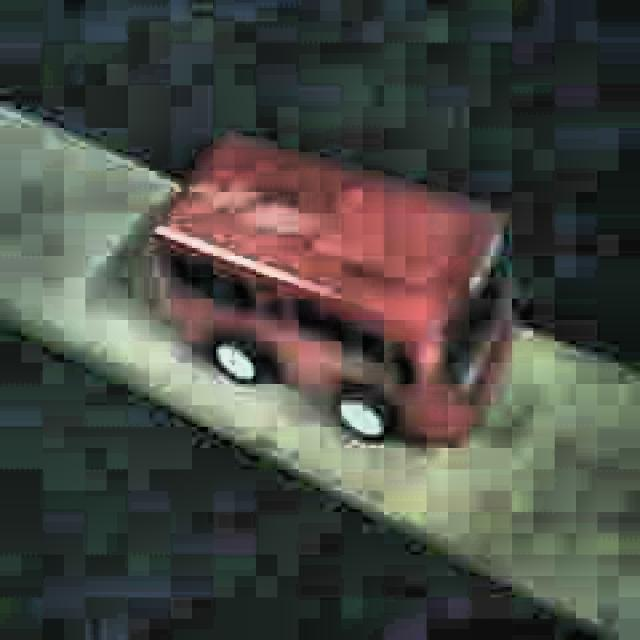bus: (146, 131, 514, 453)
